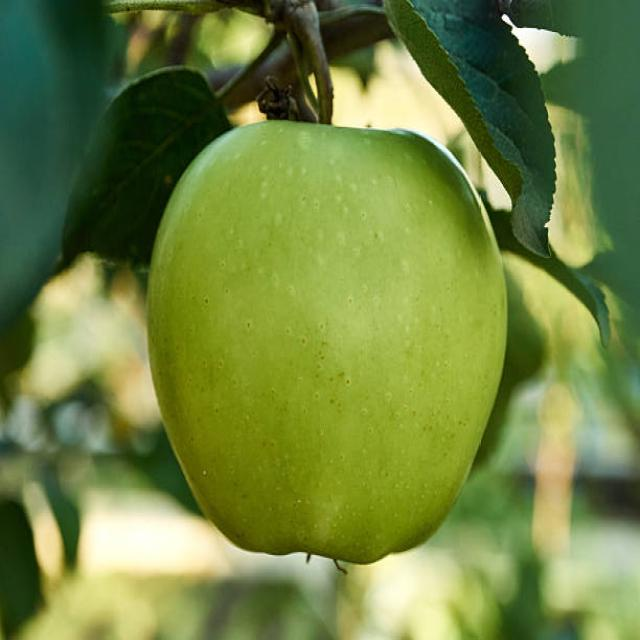Unripe: (143, 119, 508, 564)
